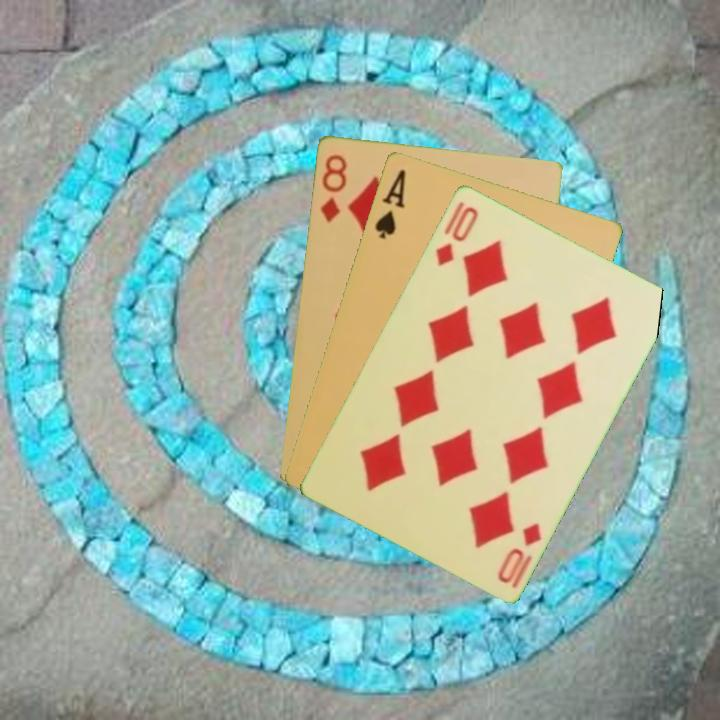10d: (431, 197, 481, 269), (493, 518, 544, 586)
8d: (316, 150, 349, 225)
As: (371, 165, 409, 241)
